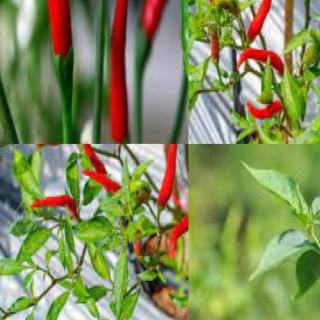green_chilli: (86, 242, 112, 284), (73, 221, 113, 239)
